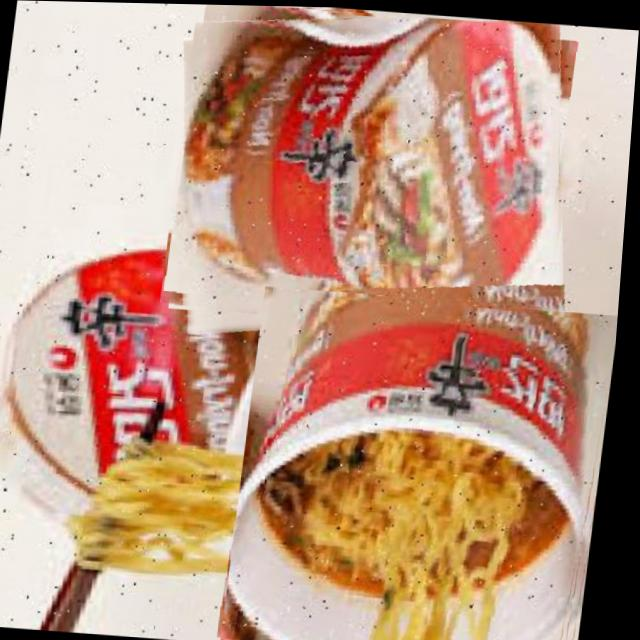Miscellaneous: (160, 3, 590, 346), (228, 285, 624, 640)
